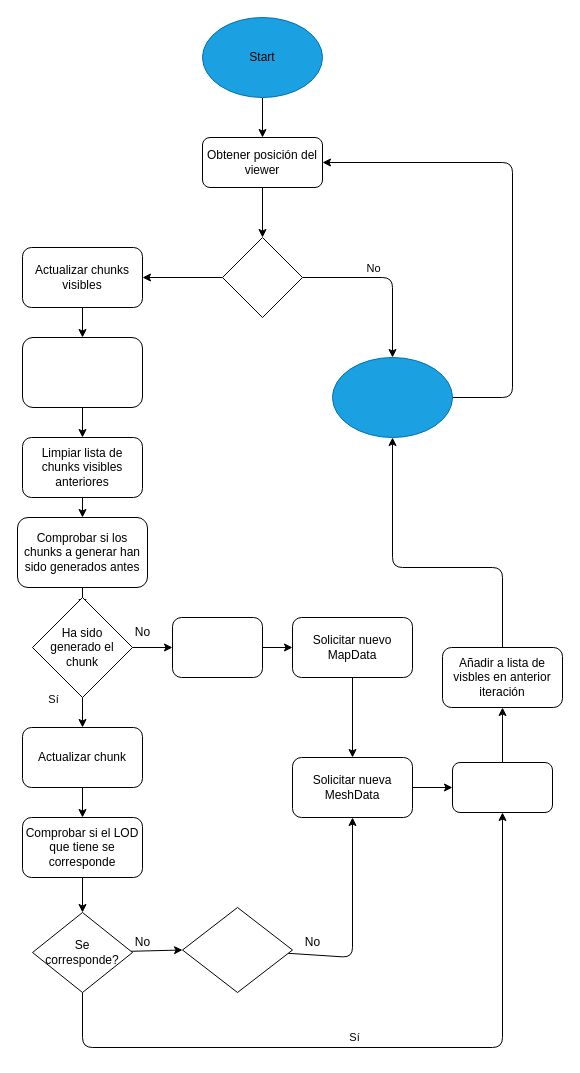
Image size: 580x1073. Some labels were removed from this diagram. Each missing label, with the centre of its shape:
Generar nuevo chunk: (217,647)
Hacer visible: (502,787)
Poner no visibles chunks visibles anterior iteración: (82,372)
Return: (392,397)
Se ha movido?: (262,277)
Tiene mesh del LOD actual?: (237,949)
